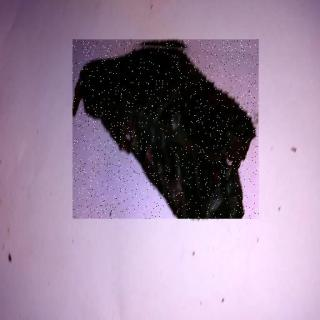Bird Eye Spot: (74, 41, 260, 220)
